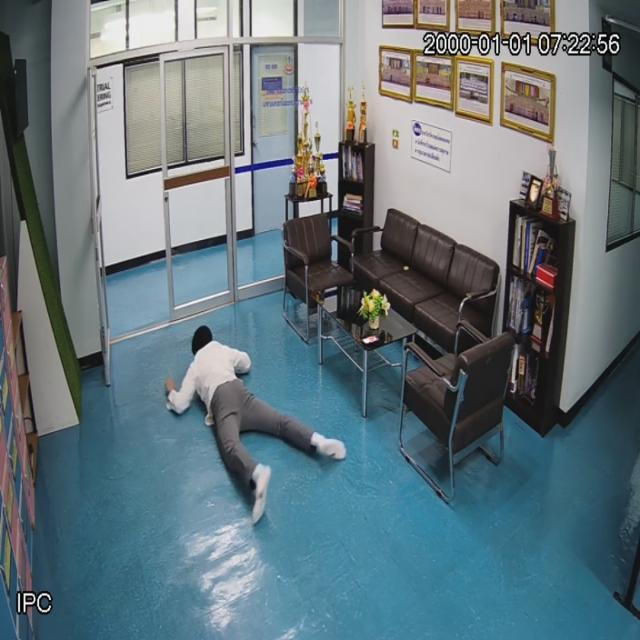fall: (170, 326, 348, 520)
